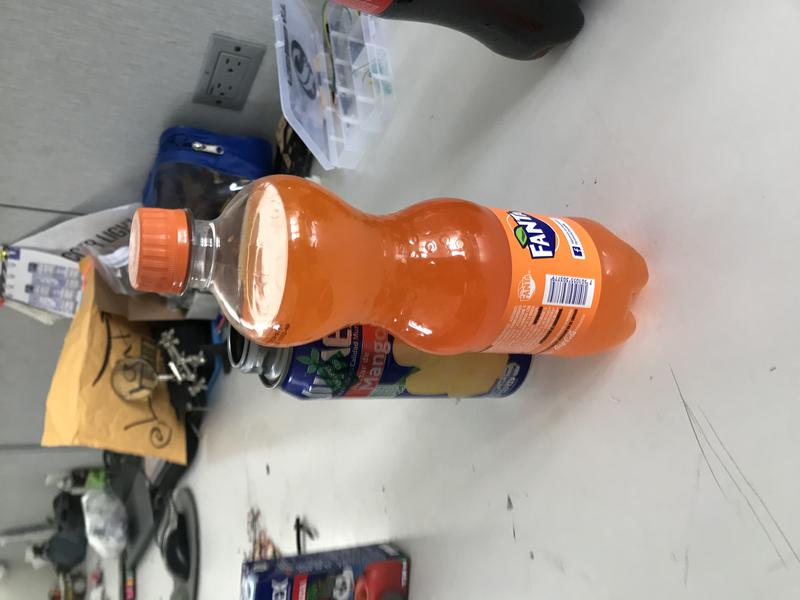fanta: (127, 175, 651, 356)
jumex_botella: (227, 319, 534, 400)
jumex_cajita: (240, 542, 408, 600)
